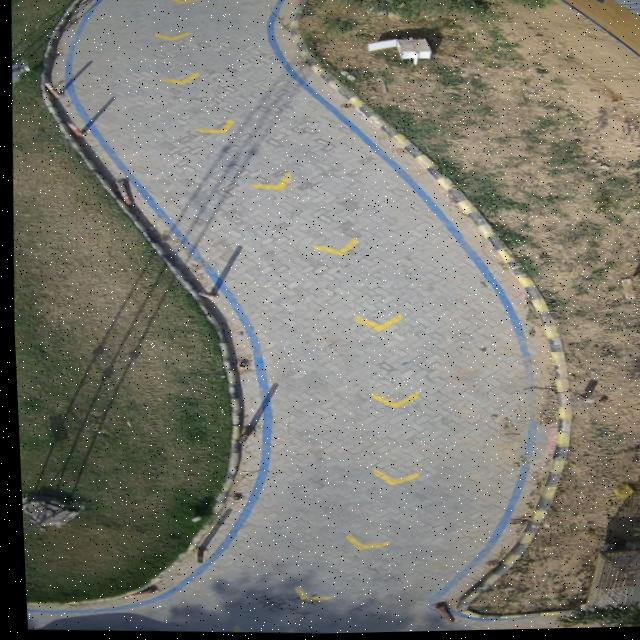No Car: (11, 0, 640, 635)
